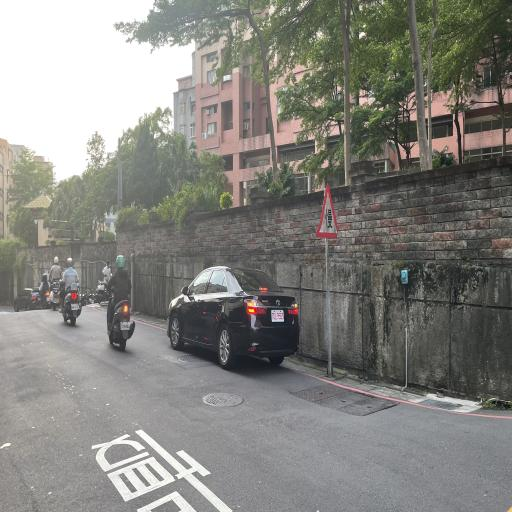MIU: (258, 329, 319, 402), (159, 304, 201, 361)
car: (163, 252, 308, 380)
redline: (282, 354, 510, 434), (124, 309, 170, 340)
